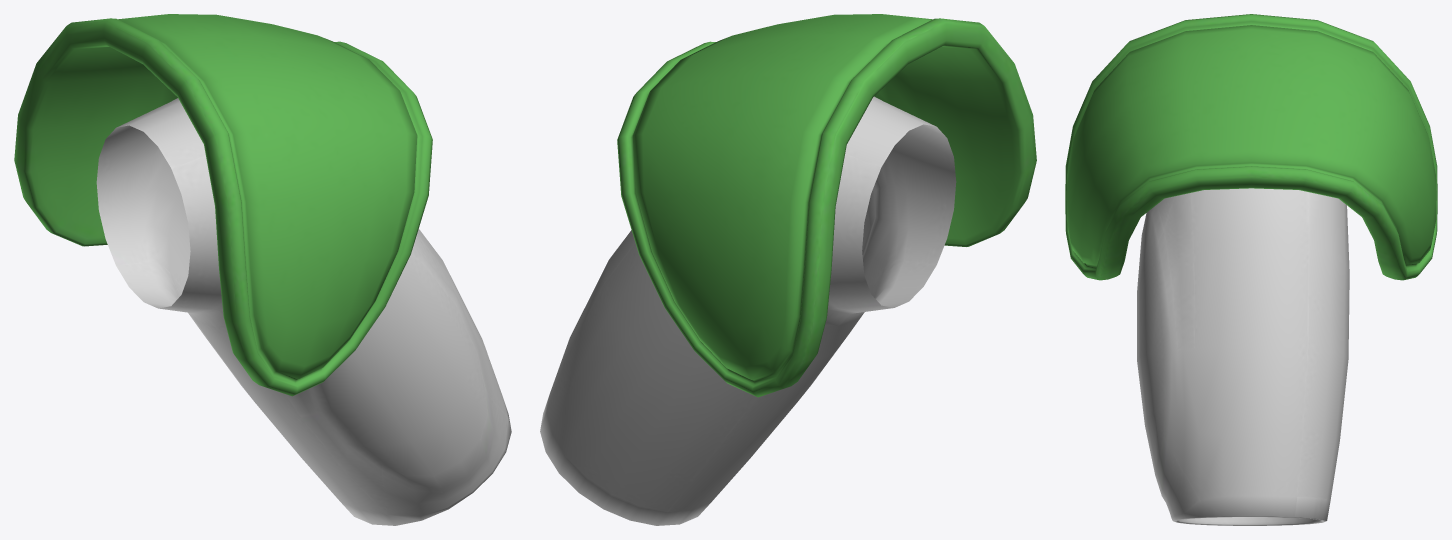
File: right_shoulder.obj
The picture shows the model from 3 angles, left to right: view 1: azimuth 30°, elevation 25°; view 2: azimuth 150°, elevation 25°; view 3: azimuth 270°, elevation 25°; orthographic projection. The views are drawn at different scales.
Visible parts, largest first — view 1: transform7 _Robot_l2:Body; view 2: transform7 _Robot_l2:Body; view 3: transform7 _Robot_l2:Body.
Boxes of the visible parts, x1,y1,x2,y2 form: transform7 _Robot_l2:Body: (14,14,511,525); transform7 _Robot_l2:Body: (540,14,1036,525); transform7 _Robot_l2:Body: (1065,14,1437,525).
Bounding box in the file's own units: 4.18 × 5.62 × 4.4.
1 material, 1 textured.
